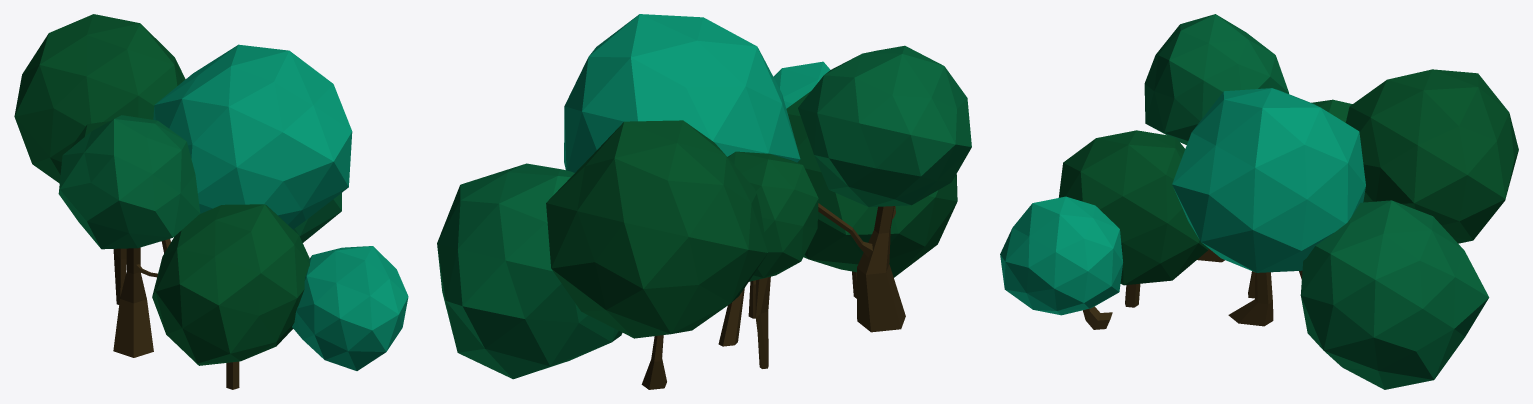
The picture shows the model from 3 angles, left to right: view 1: azimuth 30°, elevation 25°; view 2: azimuth 150°, elevation 25°; view 3: azimuth 270°, elevation 25°; orthographic projection. The views are drawn at different scales.
Parts seen in each view (by area): view 1: Icosphere.017, Icosphere.018, Icosphere.020, Icosphere.021, Icosphere.022, Cylinder.008, Icosphere.019, Cylinder.014, Cylinder.009; view 2: Icosphere.020, Icosphere.019, Icosphere.017, Icosphere.021, Icosphere.018, Icosphere.023, Cylinder.008, Icosphere.022, Cylinder.014, Cylinder.013, Cylinder.018, Cylinder.015; view 3: Icosphere.017, Icosphere.019, Icosphere.020, Icosphere.018, Icosphere.022, Icosphere.021, Cylinder.011, Icosphere.023, Cylinder.010.
Part boxes in pixels (left/top/right/bottom): Icosphere.017: left=153, top=44, right=352, bottom=229; Icosphere.018: left=152, top=204, right=309, bottom=365; Icosphere.020: left=14, top=14, right=185, bottom=183; Icosphere.021: left=58, top=115, right=200, bottom=249; Icosphere.022: left=292, top=246, right=408, bottom=370; Cylinder.008: left=113, top=247, right=153, bottom=357; Icosphere.019: left=293, top=193, right=341, bottom=242; Cylinder.014: left=113, top=248, right=126, bottom=304; Cylinder.009: left=226, top=361, right=239, bottom=389; Icosphere.020: left=546, top=120, right=767, bottom=338; Icosphere.019: left=437, top=163, right=622, bottom=379; Icosphere.017: left=564, top=14, right=800, bottom=172; Icosphere.021: left=798, top=45, right=971, bottom=207; Icosphere.018: left=786, top=91, right=957, bottom=277; Icosphere.023: left=727, top=151, right=818, bottom=281; Cylinder.008: left=857, top=206, right=905, bottom=332; Icosphere.022: left=773, top=61, right=830, bottom=108; Cylinder.014: left=755, top=276, right=770, bottom=368; Cylinder.013: left=641, top=335, right=666, bottom=389; Cylinder.018: left=718, top=288, right=744, bottom=346; Cylinder.015: left=818, top=203, right=872, bottom=257; Icosphere.017: left=1172, top=88, right=1365, bottom=272; Icosphere.019: left=1300, top=200, right=1489, bottom=389; Icosphere.020: left=1345, top=69, right=1518, bottom=243; Icosphere.018: left=1058, top=130, right=1208, bottom=285; Icosphere.022: left=1000, top=196, right=1122, bottom=315; Icosphere.021: left=1144, top=14, right=1288, bottom=144; Cylinder.011: left=1228, top=272, right=1273, bottom=326; Icosphere.023: left=1311, top=99, right=1352, bottom=122; Cylinder.010: left=1083, top=306, right=1112, bottom=329.
Size of the model in its own units: 83.19 by 59.37 by 107.
